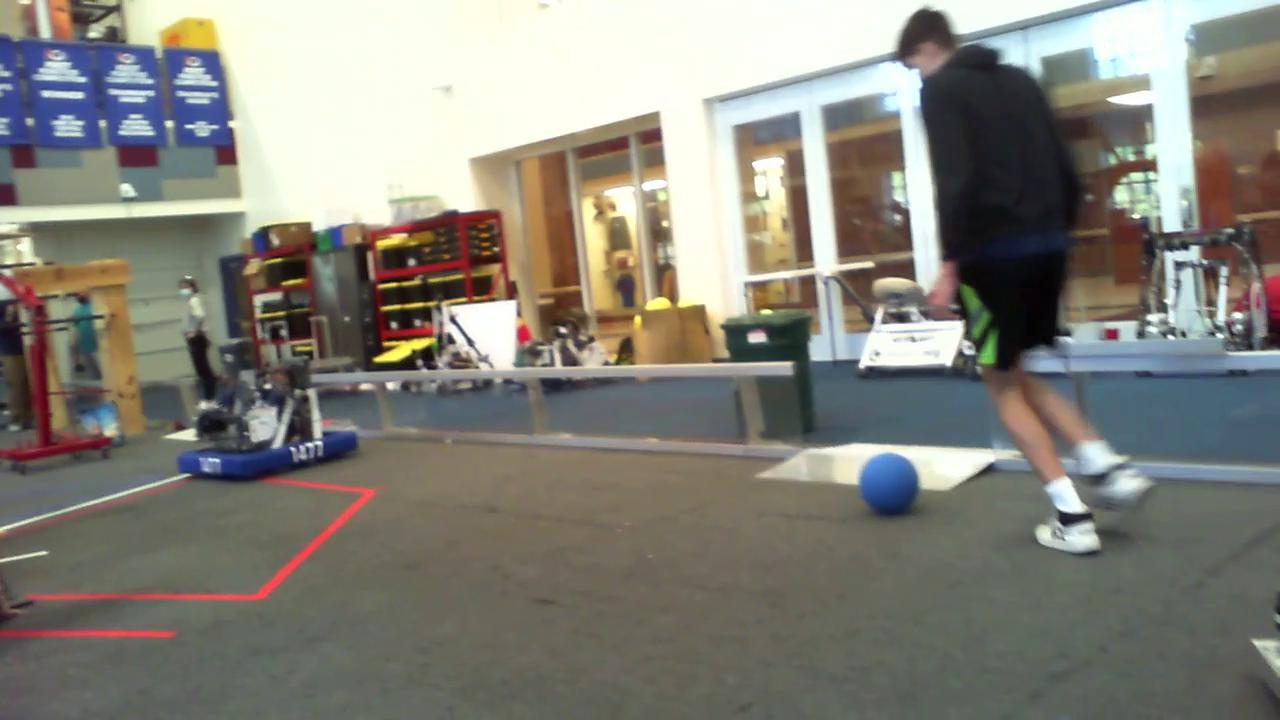robot: (174, 338, 356, 482)
